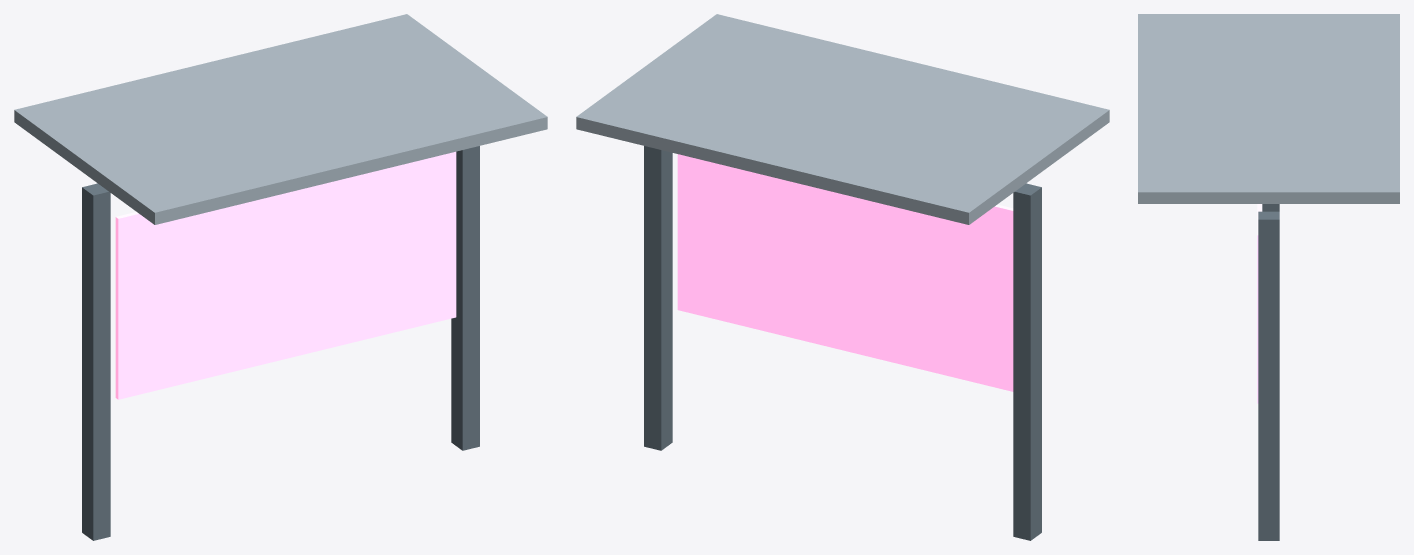
The model's file is holo_ad.glb.
The picture shows the model from 3 angles, left to right: view 1: azimuth 30°, elevation 25°; view 2: azimuth 150°, elevation 25°; view 3: azimuth 270°, elevation 25°; orthographic projection. The views are drawn at different scales.
Parts seen in each view (by area): view 1: alum, magenta, frame; view 2: alum, magenta, frame; view 3: alum, frame, magenta.
Boxes of the visible parts, bbox=[...] form: alum: bbox=[14, 14, 547, 224]; magenta: bbox=[115, 151, 456, 399]; frame: bbox=[82, 146, 479, 540]; alum: bbox=[576, 14, 1109, 224]; magenta: bbox=[677, 154, 1013, 391]; frame: bbox=[644, 146, 1041, 540]; alum: bbox=[1138, 14, 1399, 203]; frame: bbox=[1258, 204, 1279, 540]; magenta: bbox=[1257, 204, 1262, 403].
Bounding box in the file's own units: 5 × 4.57 × 3.1.
